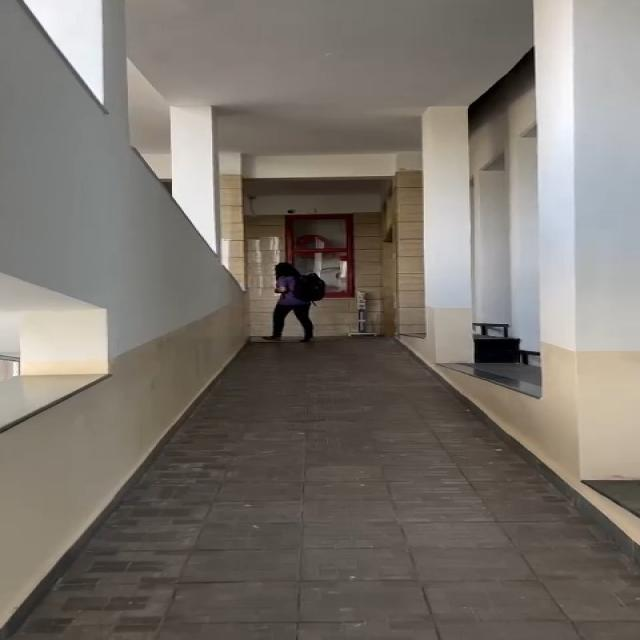floor: (107, 512, 640, 640), (243, 342, 407, 537)
moving_object: (262, 245, 321, 344)
wall: (0, 0, 255, 368), (402, 71, 640, 393)
